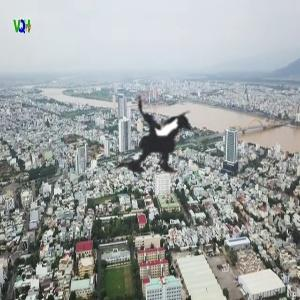drone: (75, 62, 250, 237)
